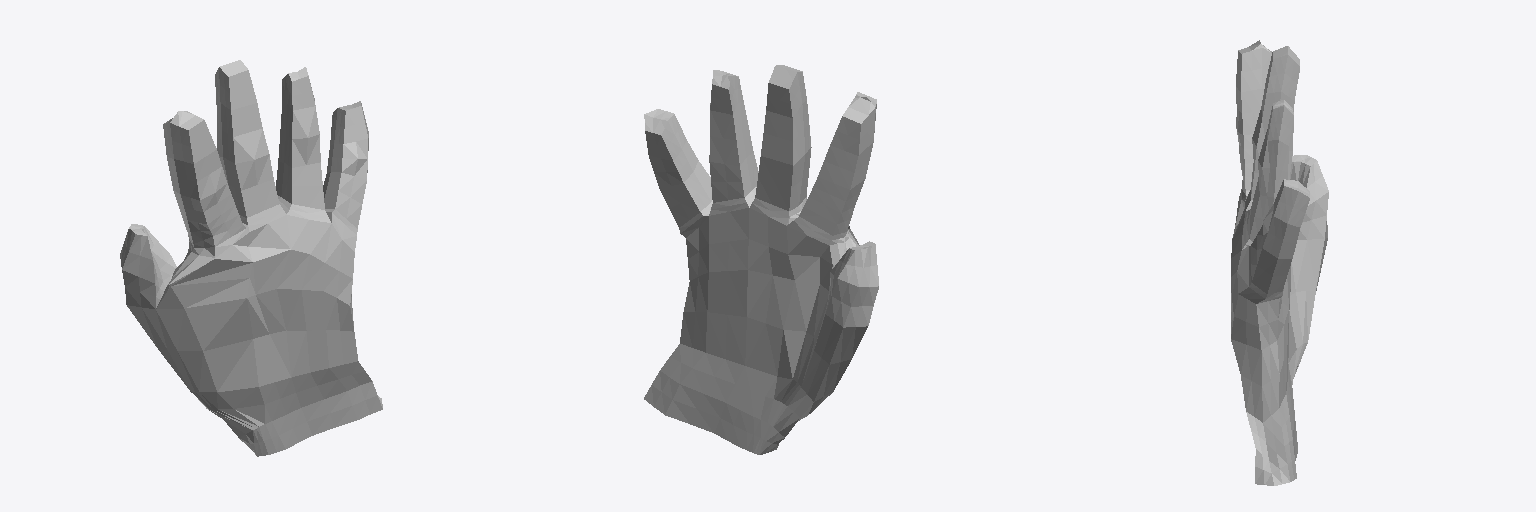
The model's file is hand_sub2_triang0003.obj.
3 views of the same model, side by side, from view 1: azimuth 30°, elevation 25°; view 2: azimuth 150°, elevation 25°; view 3: azimuth 270°, elevation 25° (orthographic).
Parts seen in each view (by area): view 1: Hand; view 2: Hand; view 3: Hand.
Part boxes in pixels (bbox=[...]): Hand: bbox=[120, 60, 382, 456]; Hand: bbox=[644, 65, 878, 454]; Hand: bbox=[1231, 40, 1328, 485].
Bounding box in the file's own units: 3.25 × 4.97 × 1.13.